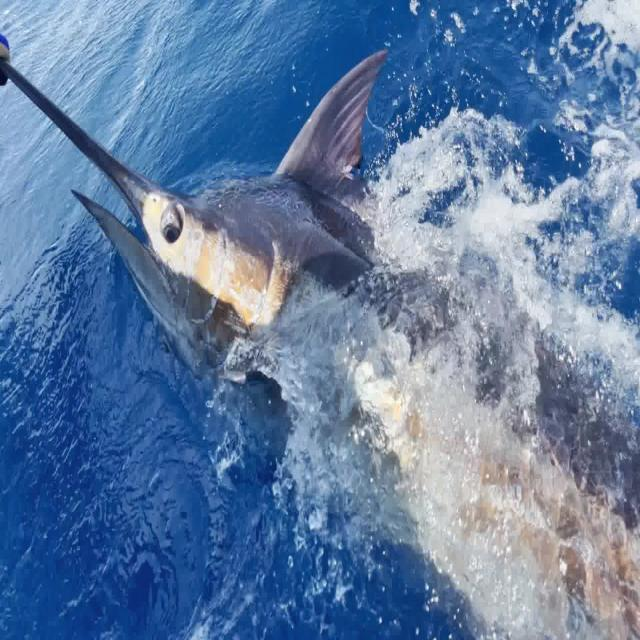Liberacion segura: (1, 45, 640, 638)
